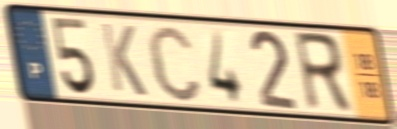2: (250, 28, 299, 113)
4: (205, 27, 247, 107)
5: (48, 15, 97, 98)
C: (144, 22, 205, 105)
K: (98, 19, 150, 99)
R: (290, 29, 356, 117)
